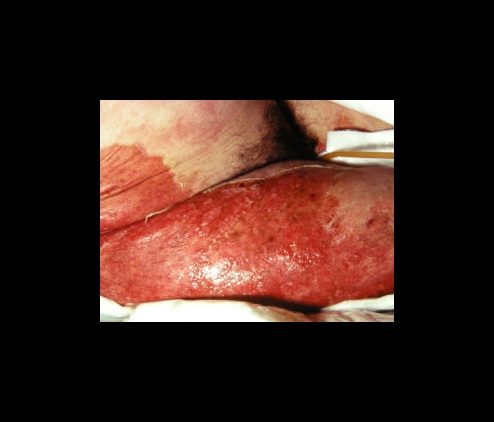SJS-TEN: (77, 122, 413, 341)
